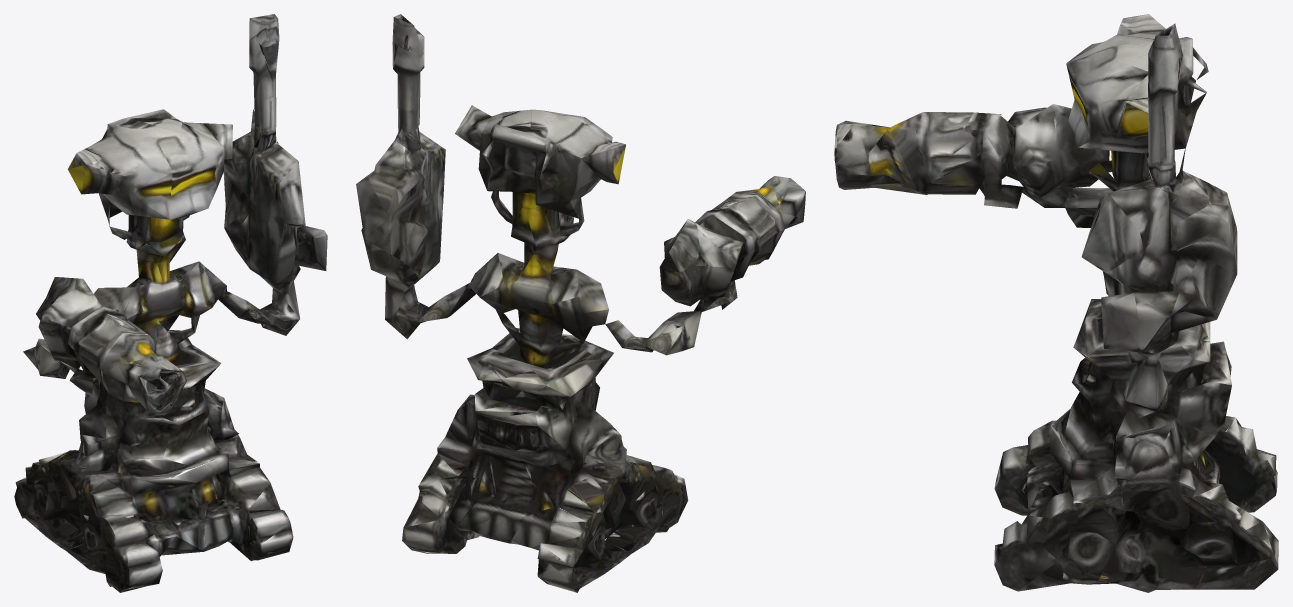
Rendered from monster_35.glb.
3 views of the same model, side by side, from view 1: azimuth 30°, elevation 25°; view 2: azimuth 150°, elevation 25°; view 3: azimuth 270°, elevation 25° (orthographic). The views are drawn at different scales.
Parts seen in each view (by area): view 1: Iron_Wizard_0709182017_texture; view 2: Iron_Wizard_0709182017_texture; view 3: Iron_Wizard_0709182017_texture.
Boxes of the visible parts, bbox=[...] form: Iron_Wizard_0709182017_texture: bbox=[14, 14, 327, 592]; Iron_Wizard_0709182017_texture: bbox=[356, 14, 805, 592]; Iron_Wizard_0709182017_texture: bbox=[834, 14, 1278, 592].
Size of the model in its own units: 1.35 by 2 by 1.36.
Materials: 1 (1 with a texture image).
